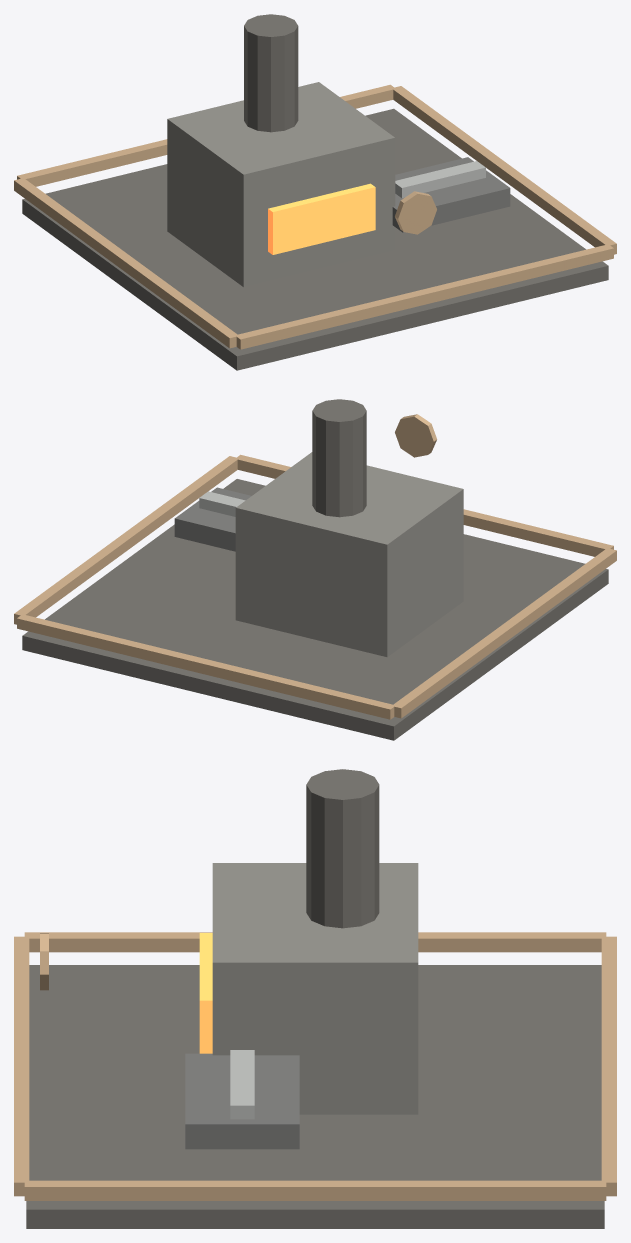
File: t2_smelter.glb
3 renders of one model, top to bottom at view 1: azimuth 30°, elevation 25°; view 2: azimuth 150°, elevation 25°; view 3: azimuth 270°, elevation 25°, orthographic. The views are drawn at different scales.
Visible parts, largest first — view 1: FootprintBase, FurnaceBody, Chimney, TierFrontTrim, HearthGlow, TierLeftTrim, TierRightTrim, IngotTray, TierBackTrim, TierEmblem, Ingot, Ingot.002; view 2: FootprintBase, FurnaceBody, Chimney, TierBackTrim, TierLeftTrim, TierRightTrim, TierFrontTrim, IngotTray, TierEmblem, Ingot.003; view 3: FootprintBase, FurnaceBody, TierRightTrim, Chimney, IngotTray, TierLeftTrim, TierBackTrim, TierFrontTrim, HearthGlow, Ingot.003.
Part boxes in pixels (x1,y1,x2,y2): FootprintBase: (22,108,608,370); FurnaceBody: (167,82,395,287); Chimney: (244,14,298,132); TierFrontTrim: (235,245,613,349); HearthGlow: (268,183,375,254); TierLeftTrim: (14,178,238,348); TierRightTrim: (393,86,616,254); IngotTray: (392,157,510,232); TierBackTrim: (17,84,395,186); TierEmblem: (395,191,436,234); Ingot: (395,174,433,198); Ingot.002: (437,165,468,189); FootprintBase: (22,479,608,740); FurnaceBody: (235,452,463,657); Chimney: (312,399,366,517); TierBackTrim: (17,615,395,719); TierLeftTrim: (392,549,616,718); TierRightTrim: (14,456,237,624); TierFrontTrim: (235,454,613,556); IngotTray: (174,487,251,551); TierEmblem: (395,414,437,457); Ingot.003: (199,491,238,515); FootprintBase: (26,965,604,1228); FurnaceBody: (212,863,418,1114); TierRightTrim: (24,1180,606,1200); Chimney: (306,769,379,928); IngotTray: (185,1053,299,1149); TierLeftTrim: (24,932,606,952); TierBackTrim: (601,936,616,1196); TierFrontTrim: (14,936,29,1196); HearthGlow: (199,933,212,1053); Ingot.003: (230,1085,254,1119).
Bounding box in the file's own units: 3.96 × 2.17 × 3.96.
